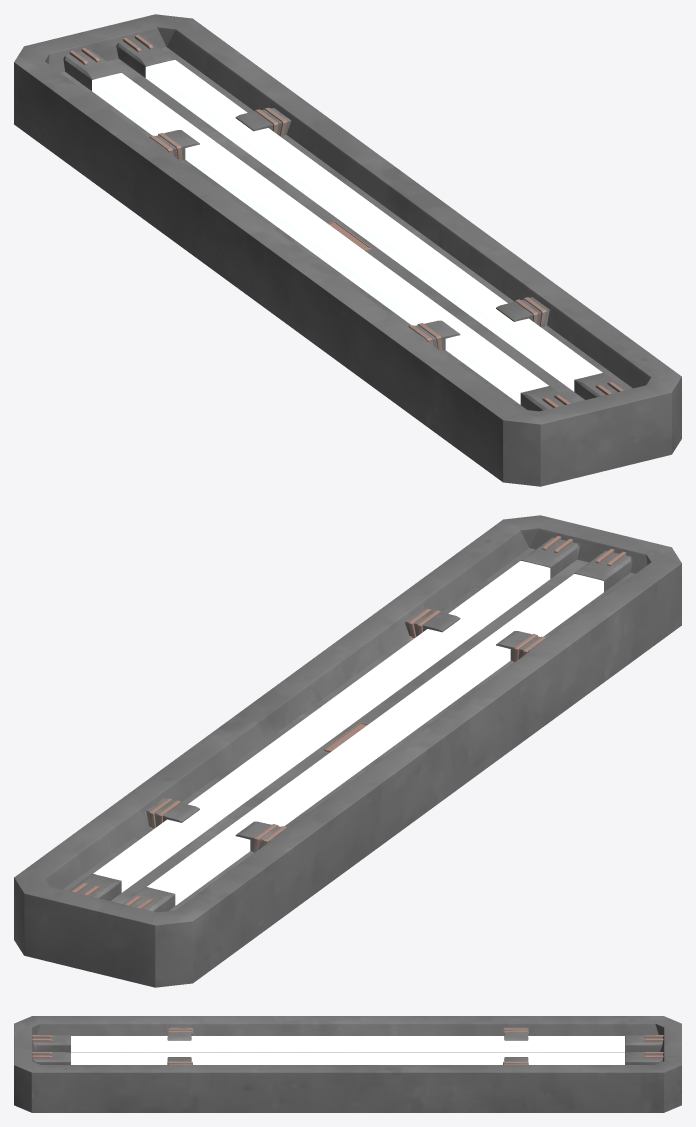
Rendered from ceiling-light.glb.
The picture shows the model from 3 angles, top to bottom: view 1: azimuth 30°, elevation 25°; view 2: azimuth 150°, elevation 25°; view 3: azimuth 270°, elevation 25°; orthographic projection. The views are drawn at different scales.
Parts seen in each view (by area): view 1: CeilingLight_Frame_0, CeilingLight_Light_0, CeilingLight_Protrustions_0; view 2: CeilingLight_Frame_0, CeilingLight_Light_0, CeilingLight_Protrustions_0; view 3: CeilingLight_Frame_0, CeilingLight_Light_0, CeilingLight_Protrustions_0.
Boxes of the visible parts, box(x1,y1,x2,y2) form: CeilingLight_Frame_0: box(14, 14, 681, 486); CeilingLight_Light_0: box(92, 60, 602, 404); CeilingLight_Protrustions_0: box(69, 35, 623, 407); CeilingLight_Frame_0: box(14, 515, 681, 987); CeilingLight_Light_0: box(93, 561, 603, 905); CeilingLight_Protrustions_0: box(72, 536, 626, 908); CeilingLight_Frame_0: box(14, 1016, 681, 1112); CeilingLight_Light_0: box(71, 1036, 624, 1064); CeilingLight_Protrustions_0: box(32, 1028, 663, 1064).
Bounding box in the file's own units: 0.2999 × 0.1 × 1.5.
Materials: 4 (3 with a texture image).
